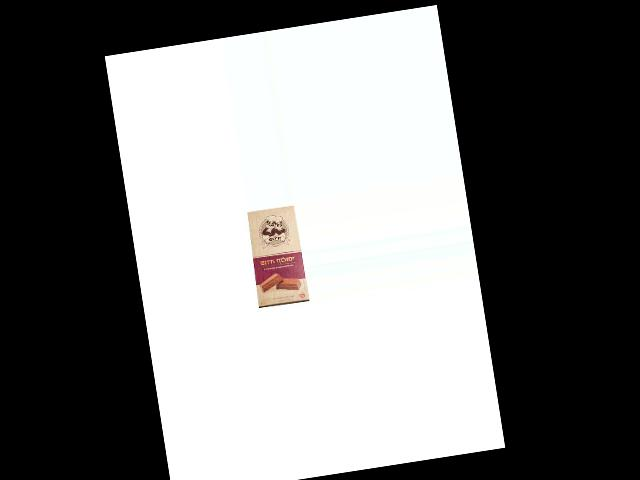chocolate: (242, 204, 308, 309)
